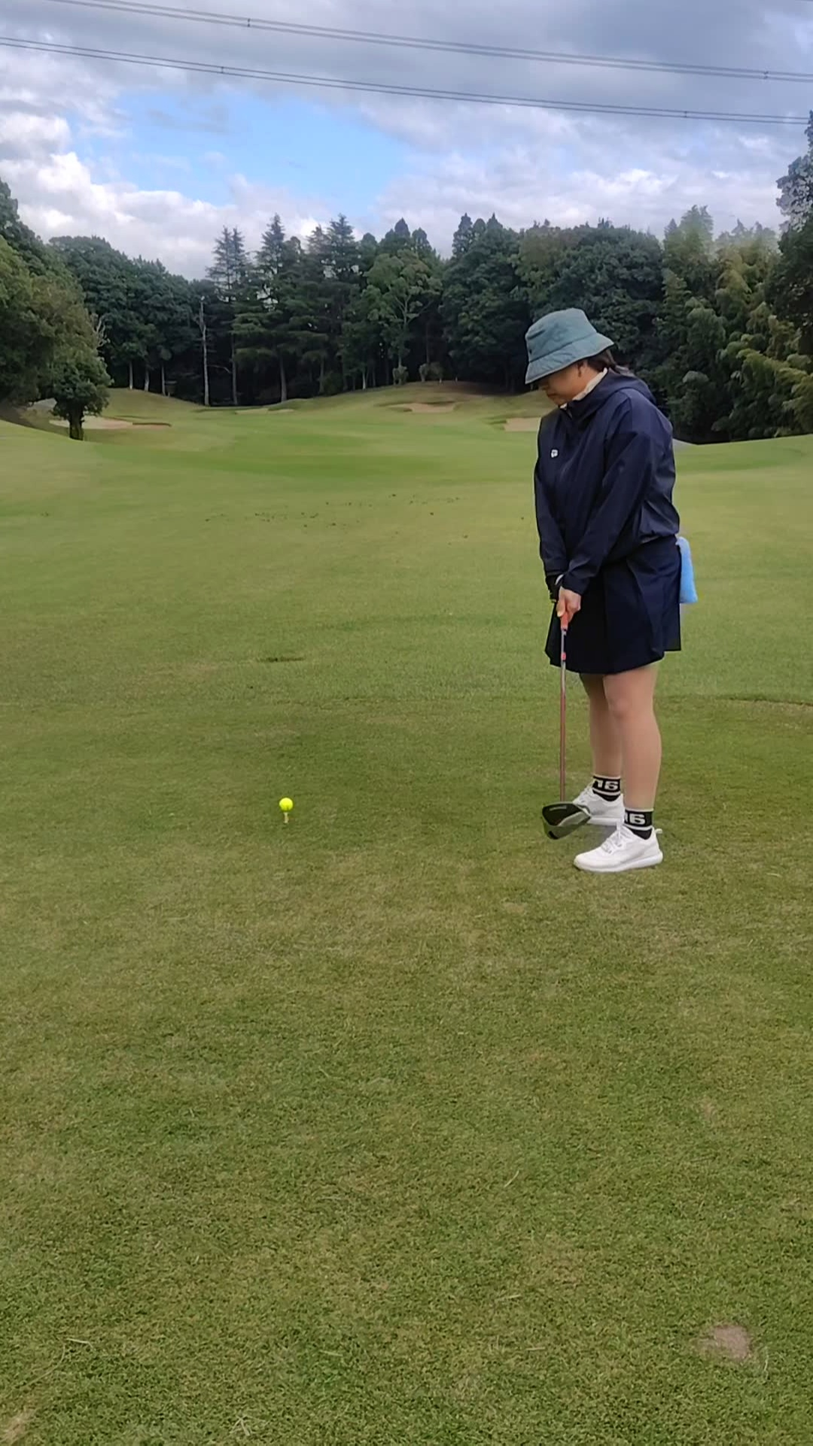clubhead: (449, 764, 672, 901)
